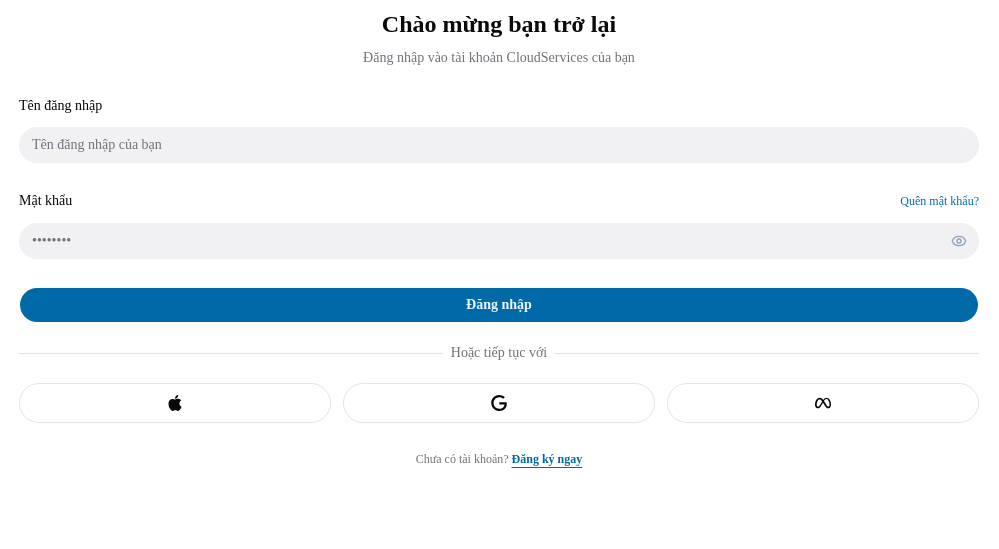
Scenario: LoginForm Component › should display validation errors when fields are empty
The width and height of the screenshot is (999, 549).
Click the button "Đăng nhập" at (499, 304), box [19,286,979,322]
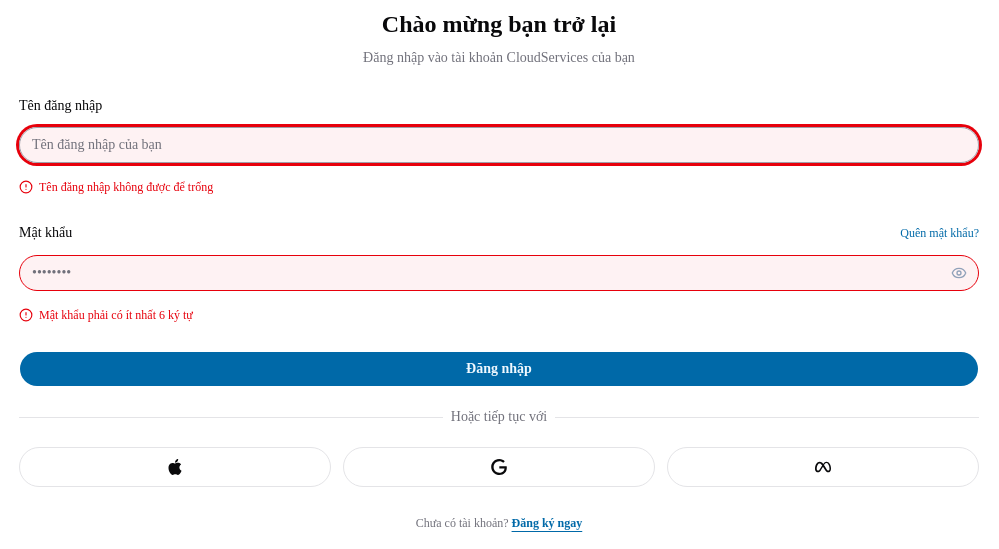
Expected: the text "Tên đăng nhập không được để trống" is shown, [39,179,213,195]
Expected: the text "Mật khẩu phải có ít nhất 6 ký tự" is shown, [39,306,193,322]
